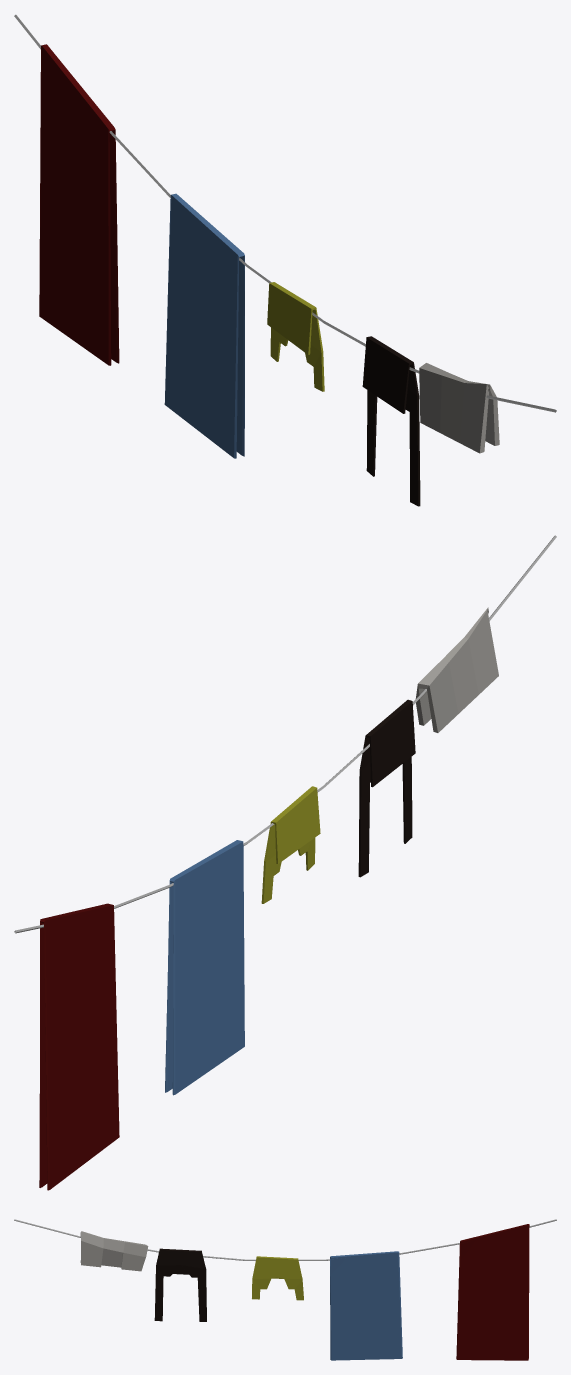
File: Model_Pranie.fbx
The picture shows the model from 3 angles, top to bottom: view 1: azimuth 30°, elevation 25°; view 2: azimuth 150°, elevation 25°; view 3: azimuth 270°, elevation 25°; orthographic projection. The views are drawn at different scales.
Visible parts, largest first — view 1: Mesh_Pranie; view 2: Mesh_Pranie; view 3: Mesh_Pranie.
Boxes of the visible parts, x1,y1,x2,y2 form: Mesh_Pranie: (14,14,556,506); Mesh_Pranie: (14,535,556,1190); Mesh_Pranie: (14,1219,556,1360).
Size of the model in its own units: 400 by 114 by 8.65.
